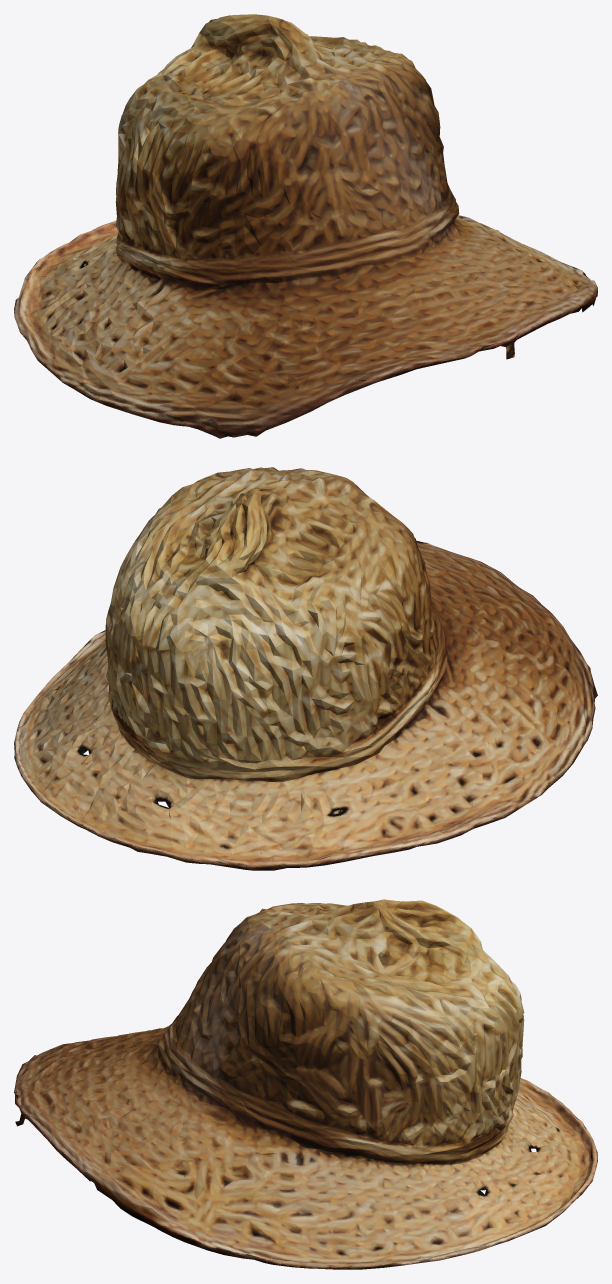
The model's file is woven-reed-hiking-hat-vintage.jpeg.glb.
The picture shows the model from 3 angles, top to bottom: view 1: azimuth 30°, elevation 25°; view 2: azimuth 150°, elevation 25°; view 3: azimuth 270°, elevation 25°; orthographic projection. The views are drawn at different scales.
Visible parts, largest first — view 1: world; view 2: world; view 3: world.
Boxes of the visible parts, bbox=[...] form: world: bbox=[14, 14, 597, 438]; world: bbox=[14, 467, 597, 870]; world: bbox=[14, 899, 597, 1269].
Size of the model in its own units: 0.8913 by 0.4956 by 0.971.
1 material, 1 textured.
